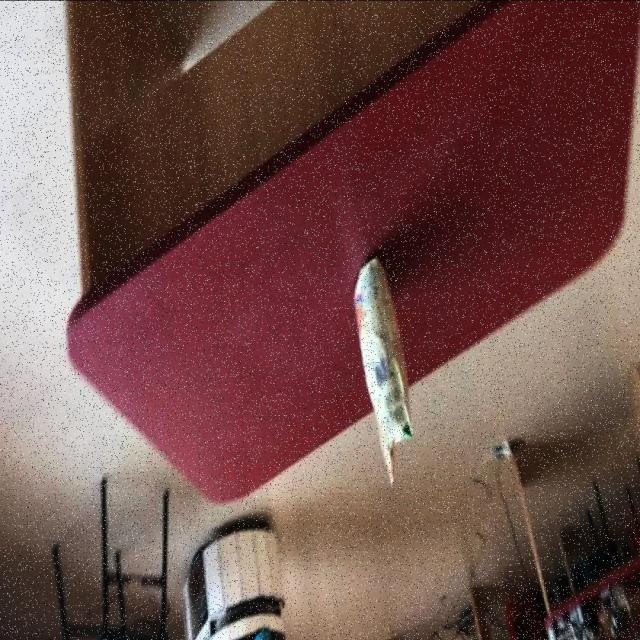CornFlakes: (352, 253, 414, 484)
